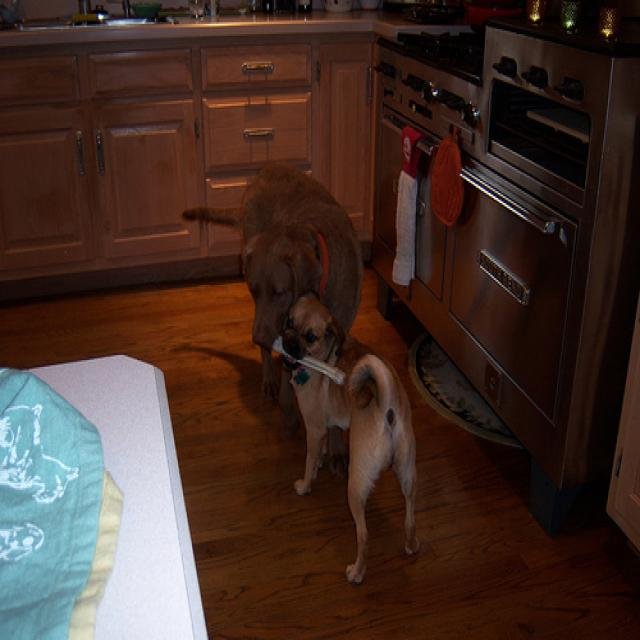Dog: (200, 168, 434, 558)
